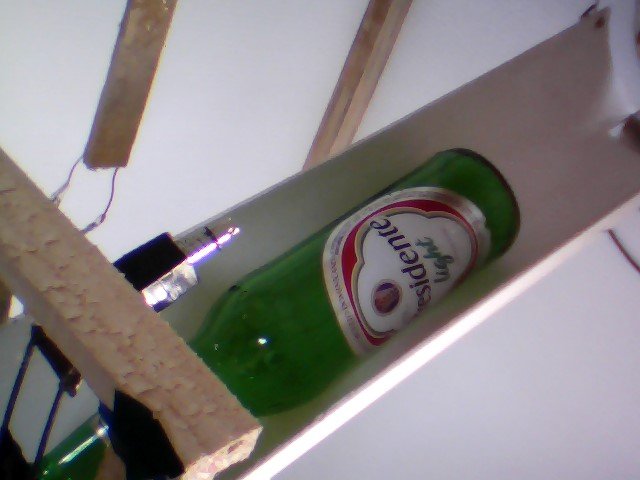vidrio: (189, 137, 527, 426)
